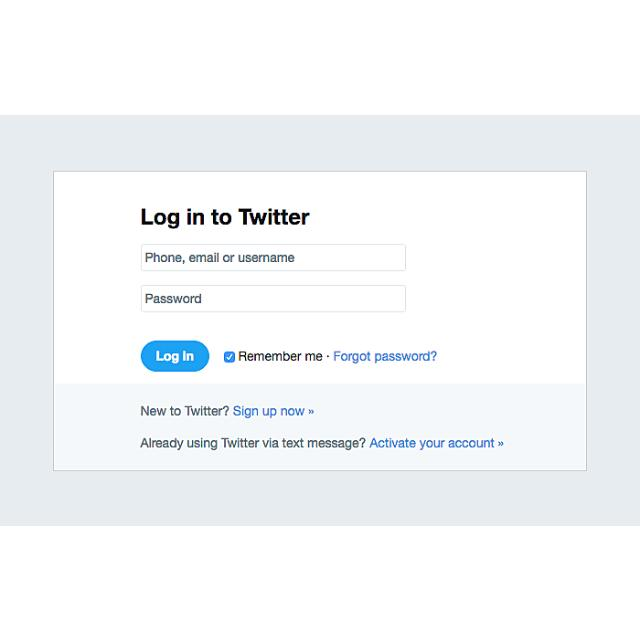QLabel: (136, 206, 310, 228), (138, 436, 366, 450), (370, 437, 504, 448), (138, 402, 230, 418), (333, 350, 437, 362), (232, 404, 314, 418), (238, 350, 322, 360), (154, 350, 193, 362)
VBtn: (142, 340, 208, 370)
VCard: (51, 168, 590, 472)
VCheckbox: (222, 348, 236, 364)
VTextField: (139, 241, 409, 273), (140, 282, 408, 314)
